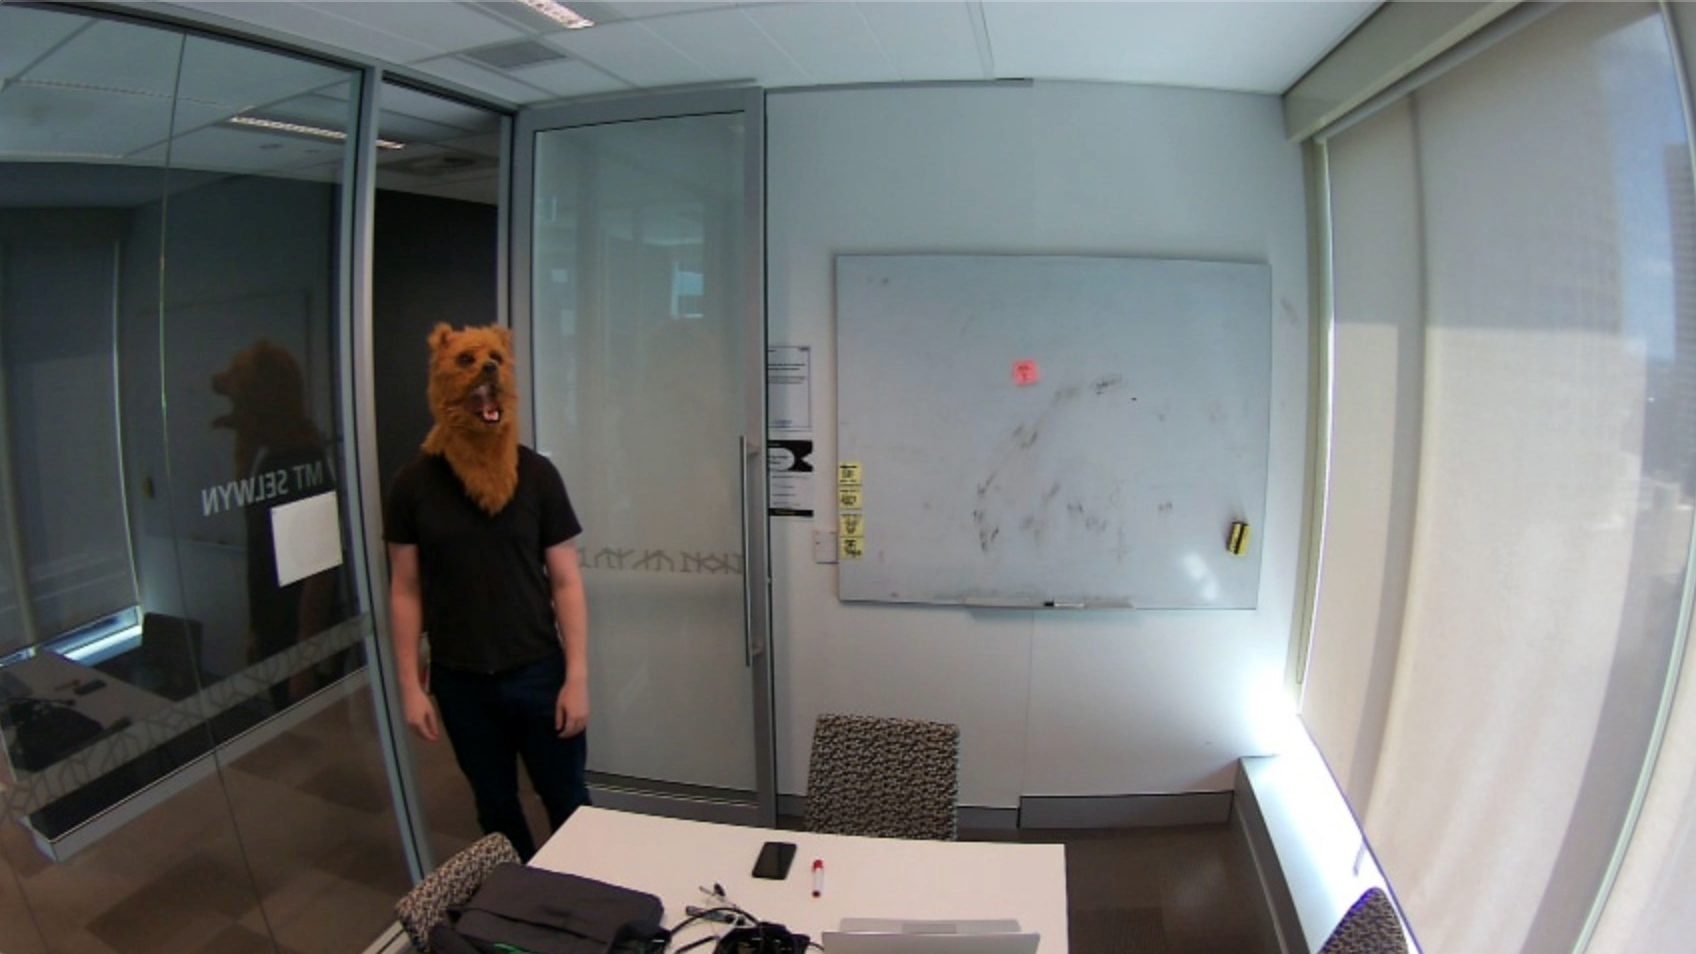Bear: (423, 318, 524, 451)
